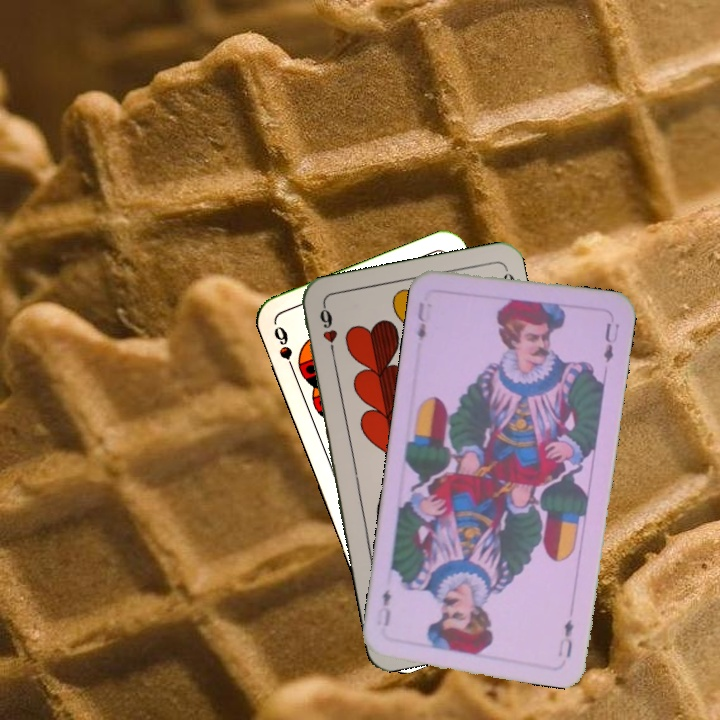EU: (554, 615, 576, 660), (412, 297, 430, 343)
H9: (315, 301, 340, 360)
S9: (269, 322, 299, 379)
